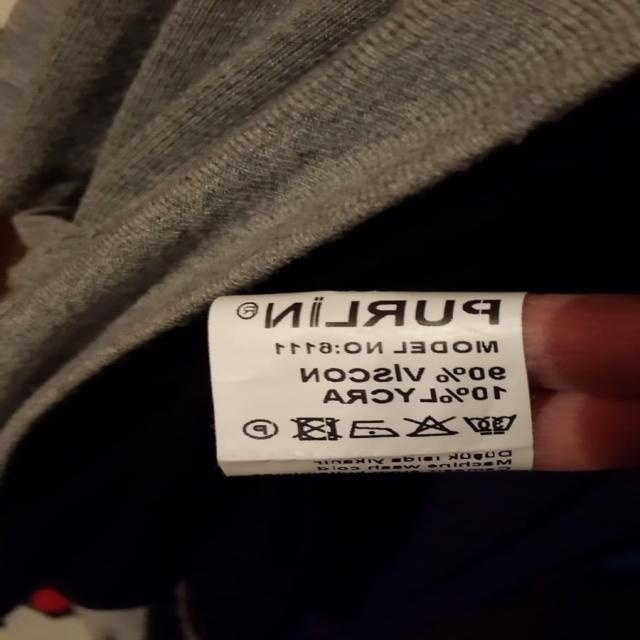30C: (460, 408, 519, 435)
DN_bleach: (400, 410, 456, 440)
DN_tumble_dry: (289, 413, 342, 444)
dry_clean_any_solvent_except_trichloroethylene: (238, 413, 280, 442)
iron_low: (347, 413, 397, 442)
